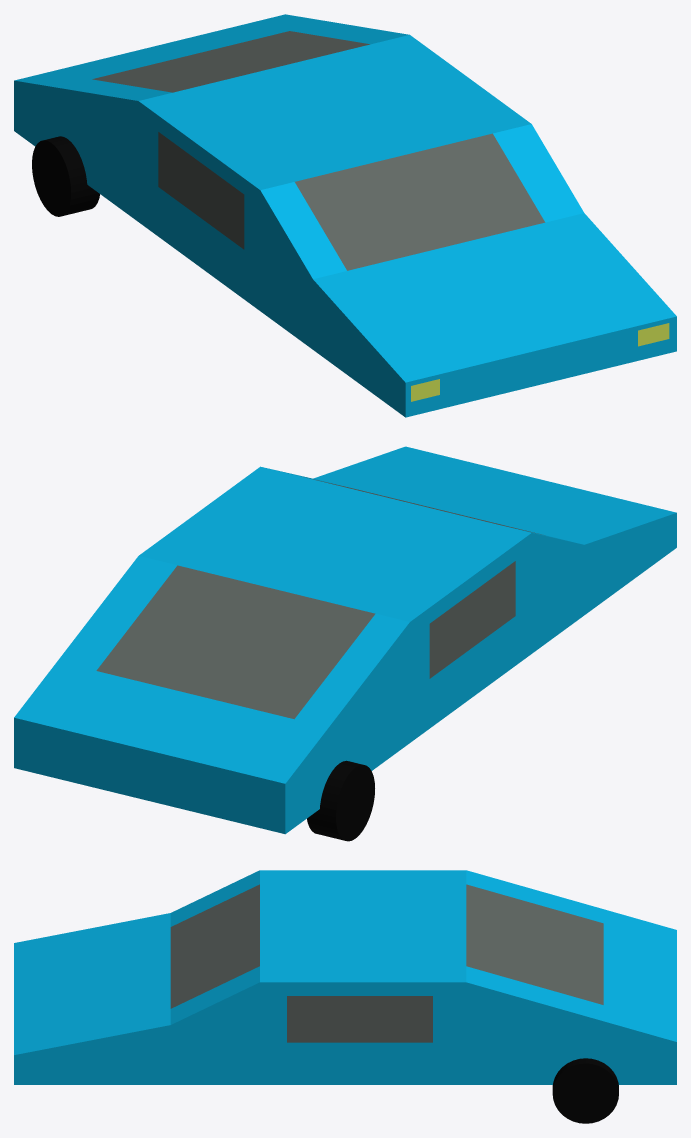
File: BlueCar.fbx
3 views of the same model, one above another, from view 1: azimuth 30°, elevation 25°; view 2: azimuth 150°, elevation 25°; view 3: azimuth 270°, elevation 25° (orthographic). The views are drawn at different scales.
Visible parts, largest first — view 1: Cube, Cylinder.002; view 2: Cube, Cylinder.002; view 3: Cube, Cylinder.001.
Boxes of the visible parts, box(x1,y1,x2,y2) form: Cube: box(14, 14, 676, 417); Cylinder.002: box(32, 136, 99, 216); Cube: box(14, 446, 676, 834); Cylinder.002: box(307, 760, 374, 841); Cube: box(14, 870, 676, 1084); Cylinder.001: box(552, 1058, 618, 1123).
Bounding box in the file's own units: 206 × 106 × 466.
